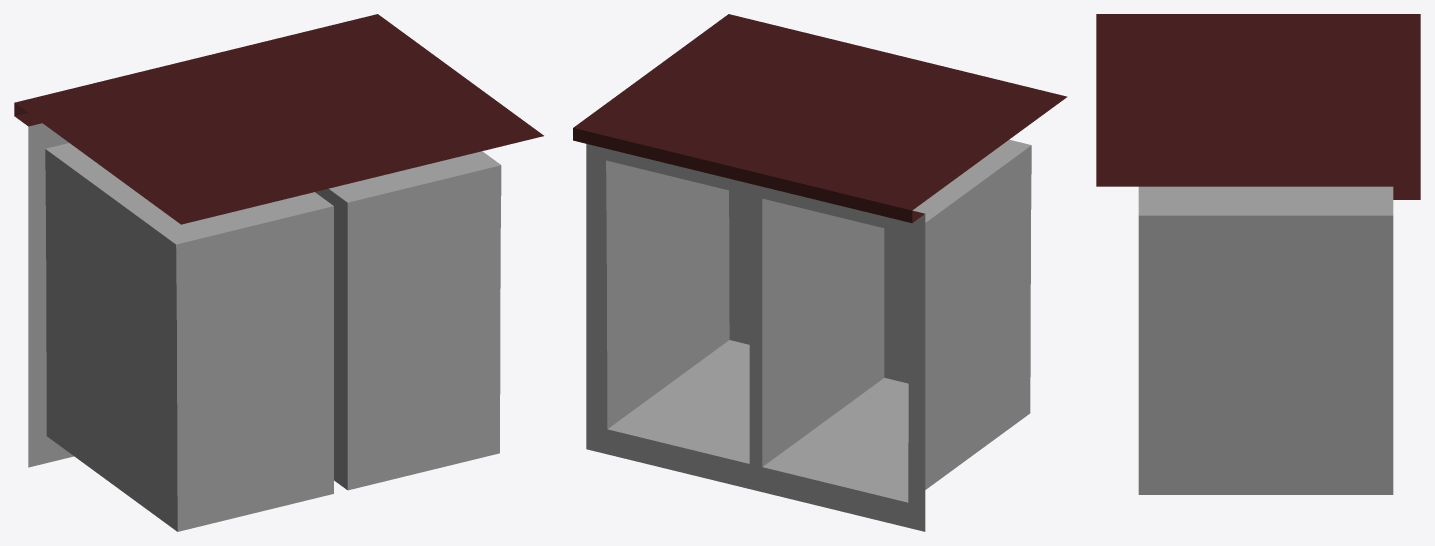
The model's file is 2DoorCabinet.fbx.
3 views of the same model, side by side, from view 1: azimuth 30°, elevation 25°; view 2: azimuth 150°, elevation 25°; view 3: azimuth 270°, elevation 25° (orthographic). The views are drawn at different scales.
Parts seen in each view (by area): view 1: polySurface75; view 2: polySurface75; view 3: polySurface75.
Part boxes in pixels (left/top/right/bottom): polySurface75: left=14, top=14, right=543, bottom=531; polySurface75: left=573, top=14, right=1067, bottom=531; polySurface75: left=1096, top=14, right=1420, bottom=494.
Bounding box in the file's own units: 2.34 × 2.18 × 1.86.
